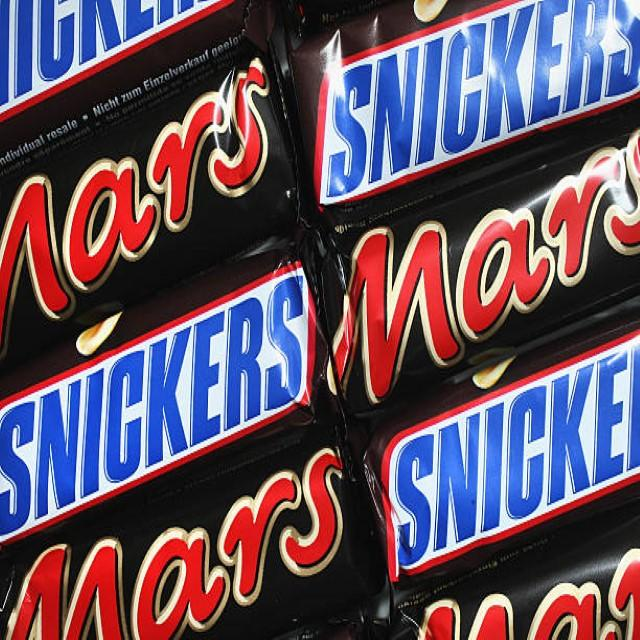mars_chocolate: (0, 45, 310, 385), (0, 413, 387, 640), (335, 127, 640, 402)
snickers_chocolate: (3, 237, 323, 535), (367, 300, 640, 608), (277, 0, 640, 230)
